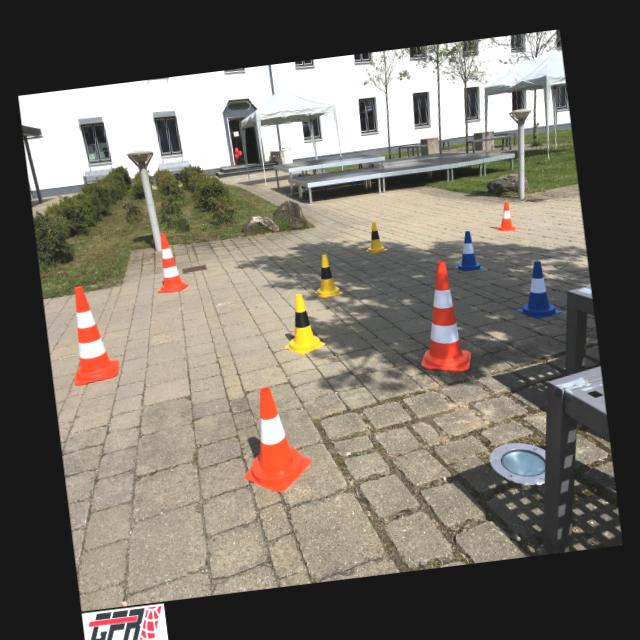blue_cone: (511, 258, 562, 320), (450, 229, 484, 272)
large_orange_cone: (408, 258, 472, 376), (62, 282, 120, 384), (150, 230, 188, 294)
orange_cone: (233, 382, 314, 496), (491, 200, 518, 232)
yellow_cone: (279, 292, 326, 356), (310, 252, 342, 298), (362, 220, 388, 253)
